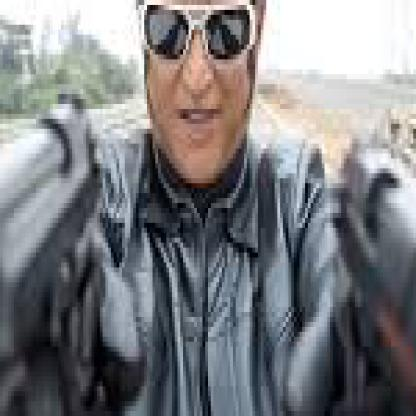gun: (0, 218, 413, 411)
